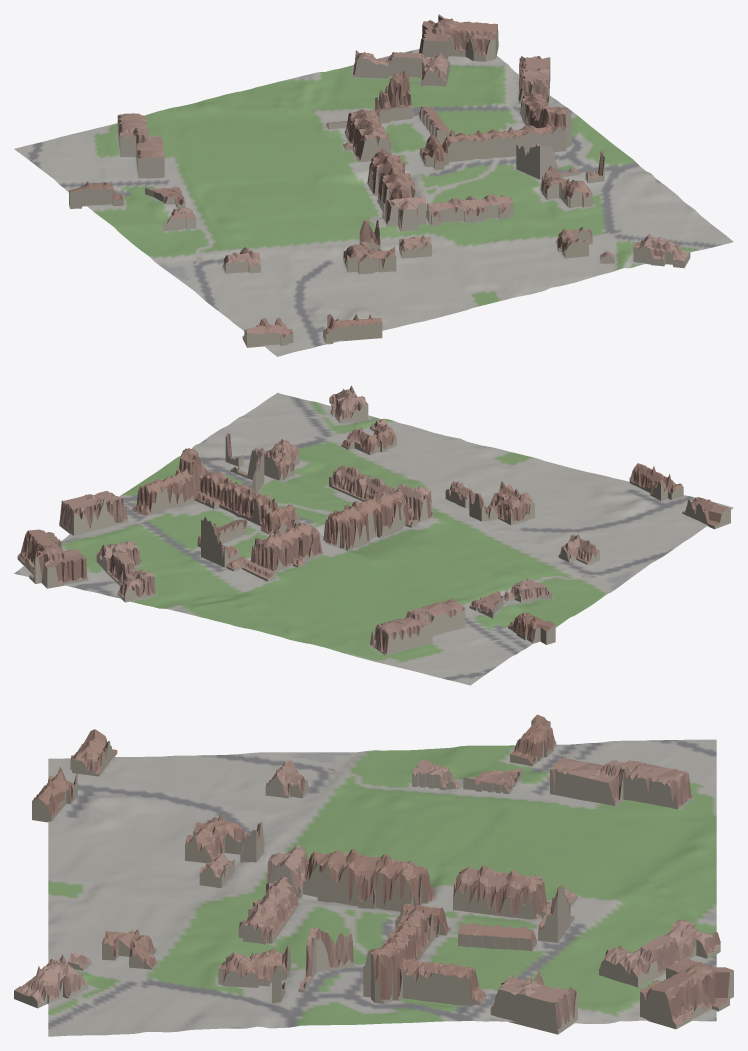
The picture shows the model from 3 angles, top to bottom: view 1: azimuth 30°, elevation 25°; view 2: azimuth 150°, elevation 25°; view 3: azimuth 270°, elevation 25°; orthographic projection. The views are drawn at different scales.
Visible parts, largest first — view 1: ground, b:way/60375445, b:way/130065915, b:way/130065921, b:way/155165974, b:way/60375454, b:way/147318816, b:way/152188684, b:way/60375457, b:way/147318782, b:way/130067997, b:way/147318771 (+13 smaller); view 2: ground, b:way/60375445, b:way/147318816, b:way/155165974, b:way/130065915, b:way/60375457, b:way/695857781, b:way/130065921, b:way/152188684, b:way/60375454, b:way/169837087, b:way/130067986 (+13 smaller); view 3: ground, b:way/60375445, b:way/147318816, b:way/155165974, b:way/130065915, b:way/60375457, b:way/130065921, b:way/695857781, b:way/152188684, b:way/60375454, b:way/130067997, b:way/147318771 (+13 smaller).
Boxes of the visible parts, box(x1,y1,x2,y2) form: ground: box(14, 49, 733, 356); b:way/60375445: box(444, 92, 571, 162); b:way/130065915: box(419, 14, 498, 61); b:way/130065921: box(352, 50, 449, 86); b:way/155165974: box(117, 113, 164, 178); b:way/60375454: box(426, 194, 513, 225); b:way/147318816: box(367, 148, 415, 218); b:way/152188684: box(343, 219, 396, 274); b:way/60375457: box(343, 109, 391, 162); b:way/147318782: box(375, 71, 412, 123); b:way/130067997: box(633, 234, 690, 268); b:way/147318771: box(540, 165, 592, 207); ground: box(14, 392, 733, 685); b:way/60375445: box(132, 448, 278, 526); b:way/147318816: box(323, 490, 418, 550); b:way/155165974: box(370, 599, 465, 654); b:way/130065915: box(17, 529, 88, 588); b:way/60375457: box(250, 522, 323, 571); b:way/695857781: box(59, 491, 128, 535); b:way/130065921: box(96, 541, 156, 602); b:way/152188684: box(469, 481, 534, 524); b:way/60375454: box(329, 465, 396, 501); b:way/169837087: box(629, 463, 683, 500); b:way/130067986: box(341, 423, 396, 454); ground: box(48, 739, 716, 1036); b:way/60375445: box(363, 904, 487, 1005); b:way/147318816: box(303, 849, 436, 911); b:way/155165974: box(550, 756, 693, 809); b:way/130065915: box(640, 958, 733, 1029); b:way/60375457: box(453, 865, 551, 919); b:way/130065921: box(599, 919, 720, 987); b:way/695857781: box(490, 970, 577, 1034); b:way/152188684: box(185, 814, 264, 863); b:way/60375454: box(238, 876, 299, 944); b:way/130067997: box(14, 955, 88, 1008); b:way/147318771: box(218, 945, 290, 987).
Size of the model in its own units: 267 by 30.91 by 269.
